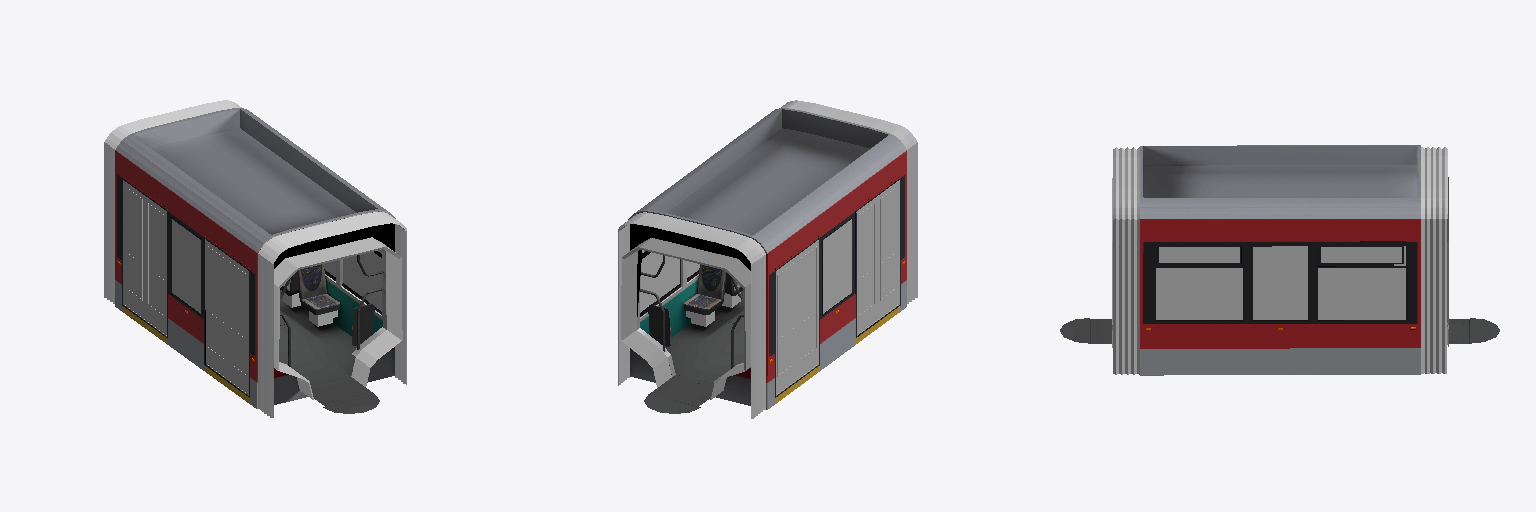
3 views of the same model, side by side, from view 1: azimuth 30°, elevation 25°; view 2: azimuth 150°, elevation 25°; view 3: azimuth 270°, elevation 25° (orthographic).
Visible parts, largest first — view 1: body, salon, steklo, ds_rr2, ds_rr, ds_rl2, ds_rl, d_rl2, d_rl, d_rr, d_rr2; view 2: body, salon, steklo, ds_rl, ds_rr2, ds_rl2, ds_rr, d_rl2, d_rr, d_rl, d_rr2; view 3: body, steklo, salon.
Boxes of the visible parts, x1,y1,x2,y2 form: body: [104, 100, 406, 417]; salon: [274, 237, 402, 413]; steklo: [172, 219, 381, 313]; ds_rr2: [126, 188, 141, 298]; ds_rr: [208, 247, 223, 357]; ds_rl2: [149, 205, 163, 314]; ds_rl: [231, 264, 245, 373]; d_rl2: [145, 196, 166, 336]; d_rl: [227, 255, 248, 395]; d_rr: [205, 239, 226, 379]; d_rr2: [123, 180, 144, 319]; body: [618, 100, 917, 418]; salon: [621, 238, 847, 413]; steklo: [640, 219, 851, 313]; ds_rl: [881, 188, 896, 298]; ds_rr2: [778, 264, 793, 374]; ds_rl2: [801, 248, 815, 357]; ds_rr: [859, 205, 873, 314]; d_rl2: [797, 240, 818, 379]; d_rr: [856, 196, 877, 335]; d_rl: [878, 180, 899, 319]; d_rr2: [776, 256, 796, 395]; body: [1113, 145, 1447, 375]; steklo: [1156, 246, 1405, 319]; salon: [1060, 177, 1499, 347].
Bounding box in the file's own units: 2.54 × 2.93 × 6.85.
Materials: 10 (6 with a texture image).